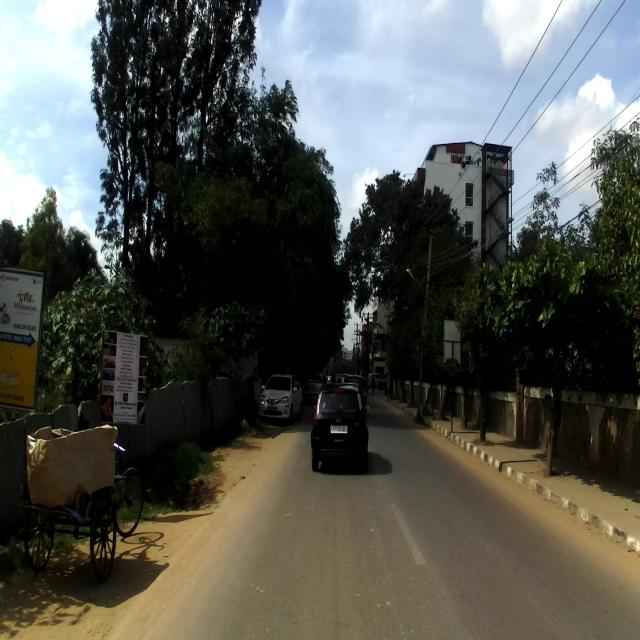Car_Ford: (310, 382, 375, 472)
Car_Toyota: (258, 372, 304, 428)
